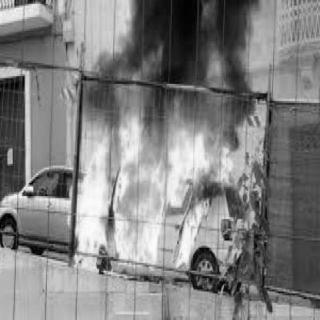Fire: (70, 44, 240, 276)
